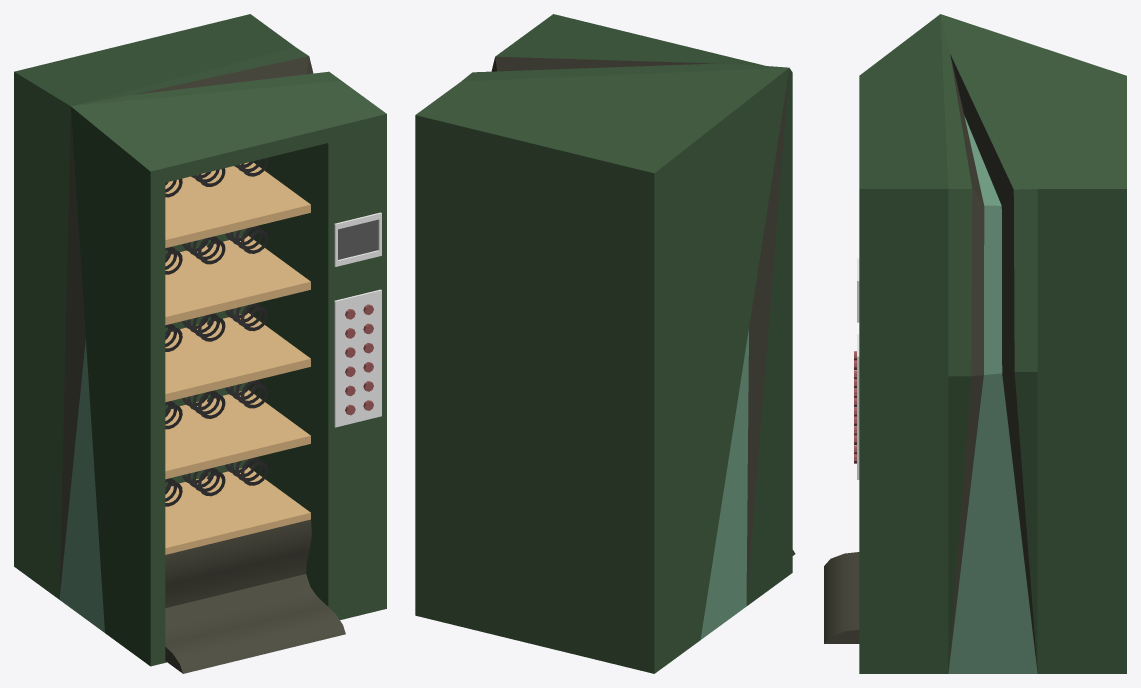
Rendered from Vending Machine.fbx.
3 renders of one model, left to right at view 1: azimuth 30°, elevation 25°; view 2: azimuth 150°, elevation 25°; view 3: azimuth 270°, elevation 25°, orthographic. The views are drawn at different scales.
Visible parts, largest first — view 1: VM_Chasis01, VM_Levels, VM_Ramp, VM_Button Panel, VM_Spring, VM_Buttons; view 2: VM_Chasis01; view 3: VM_Chasis01, VM_Ramp, VM_Button Panel.
Part boxes in pixels (x1,y1,x2,y2): VM_Chasis01: (14,14,386,666); VM_Levels: (165,162,310,554); VM_Ramp: (165,519,345,673); VM_Button Panel: (334,212,381,427); VM_Spring: (165,157,268,506); VM_Buttons: (345,304,373,415); VM_Chasis01: (415,14,792,673); VM_Chasis01: (859,14,1126,673); VM_Ramp: (824,552,859,643); VM_Button Panel: (857,258,859,479).
Bounding box in the file's own units: 133 × 218 × 113.
